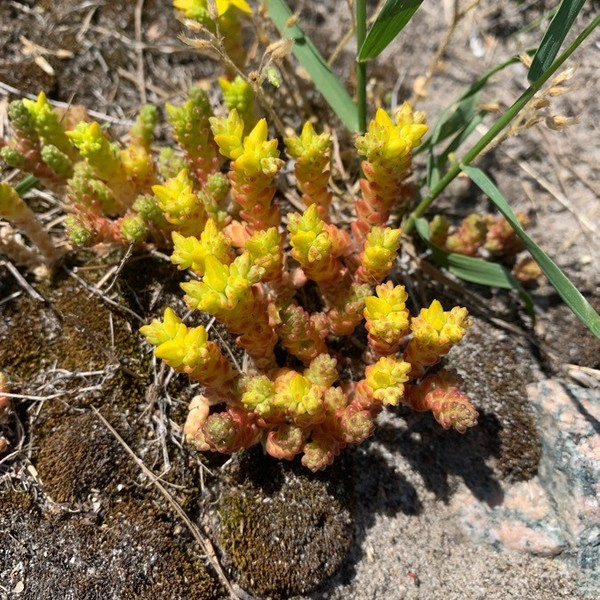obstacle: (102, 103, 463, 446)
